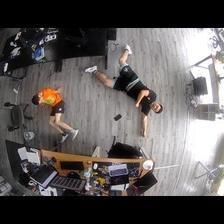fall: (86, 43, 165, 136), (33, 87, 85, 145)
